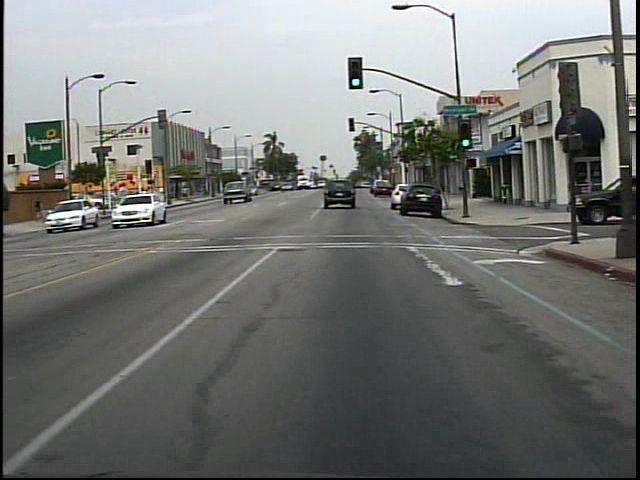person: (138, 184, 154, 209)
